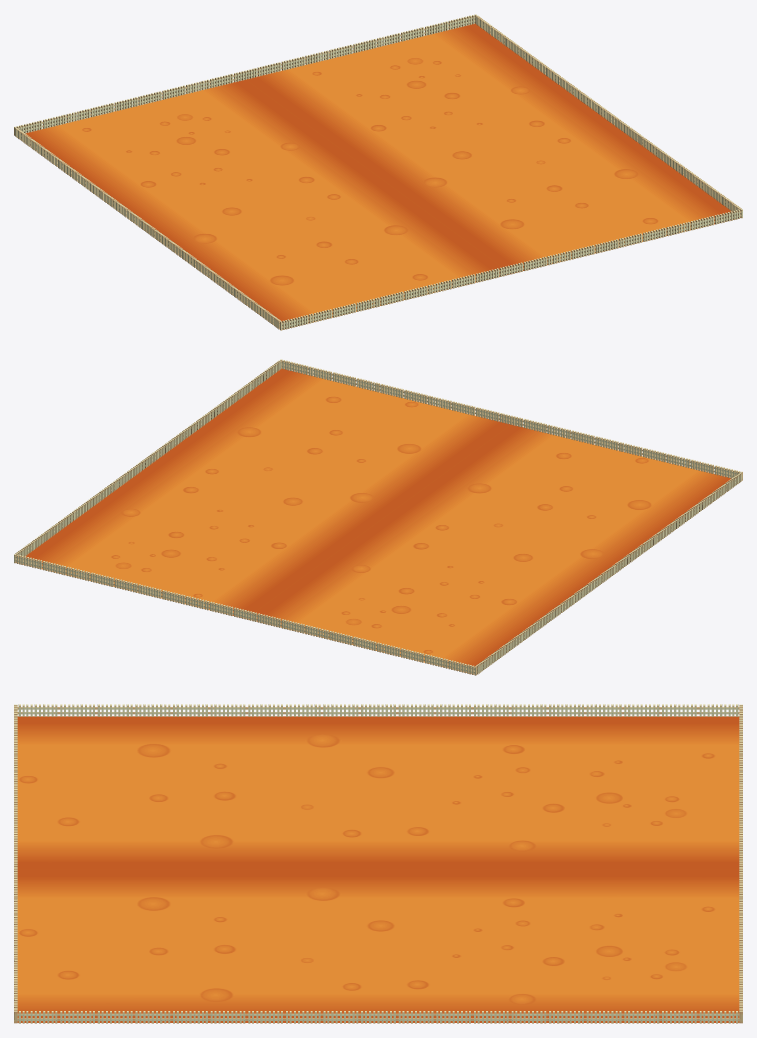
The model's file is Envi_Jalan.fbx.
The picture shows the model from 3 angles, top to bottom: view 1: azimuth 30°, elevation 25°; view 2: azimuth 150°, elevation 25°; view 3: azimuth 270°, elevation 25°; orthographic projection. The views are drawn at different scales.
Visible parts, largest first — view 1: Envi_Jalan; view 2: Envi_Jalan; view 3: Envi_Jalan.
Boxes of the visible parts, <box> form: Envi_Jalan: <box>14,14,742,330</box>; Envi_Jalan: <box>14,359,742,675</box>; Envi_Jalan: <box>14,704,742,1023</box>.
Size of the model in its own units: 9647 by 166 by 9647.
